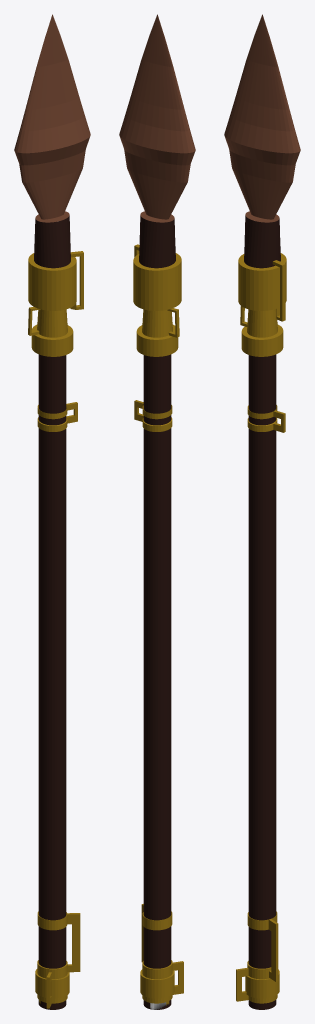
The model's file is Spear.fbx.
3 views of the same model, side by side, from view 1: azimuth 30°, elevation 25°; view 2: azimuth 150°, elevation 25°; view 3: azimuth 330°, elevation 25° (orthographic).
Visible parts, largest first — view 1: Cylinder; view 2: Cylinder; view 3: Cylinder.
Boxes of the visible parts, <box> form: Cylinder: <box>14,14,90,1009</box>; Cylinder: <box>119,14,195,1009</box>; Cylinder: <box>224,14,300,1009</box>.
Bounding box in the file's own units: 57 × 720 × 33.38.
1 material, 1 textured.
